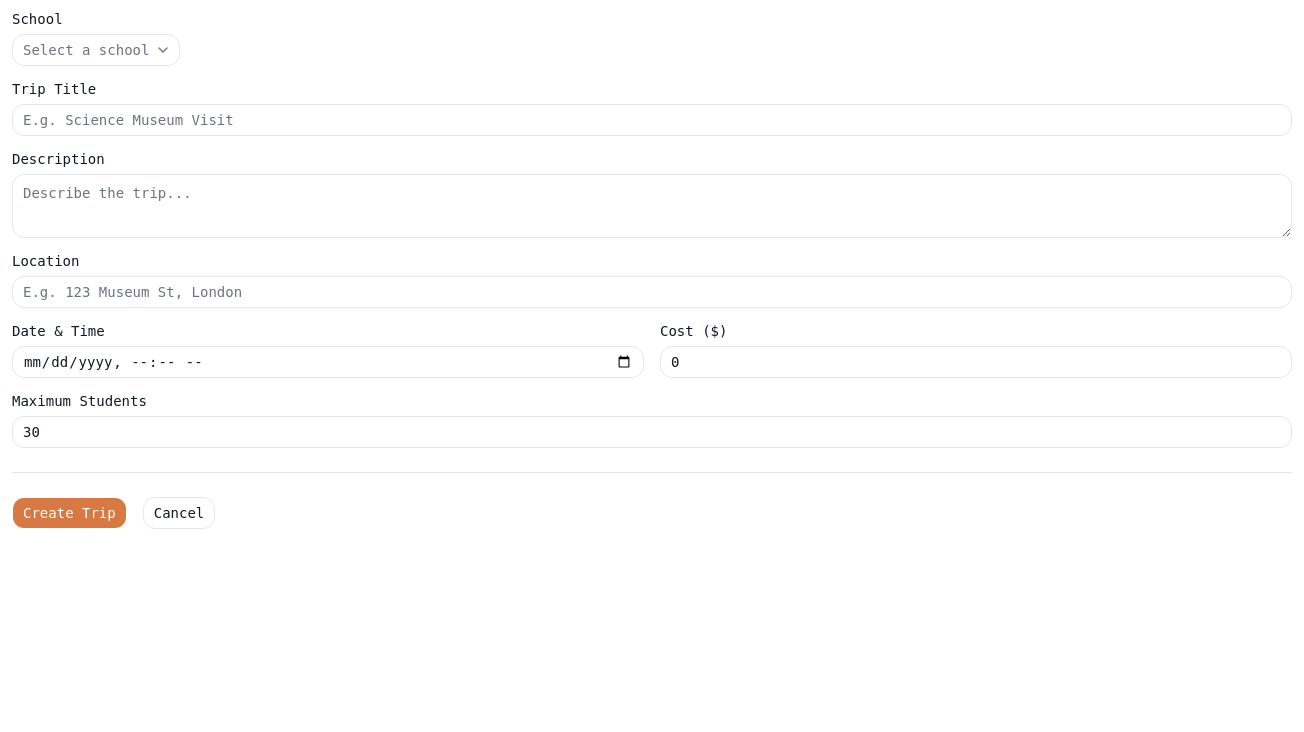
Scenario: TripFormFeature › shows validation errors on empty submission
What coordinates should you click on to do the following:
click the button "Create Trip"
I would click on:
 (69, 513)
Its box is x1=12 y1=497 x2=127 y2=529.
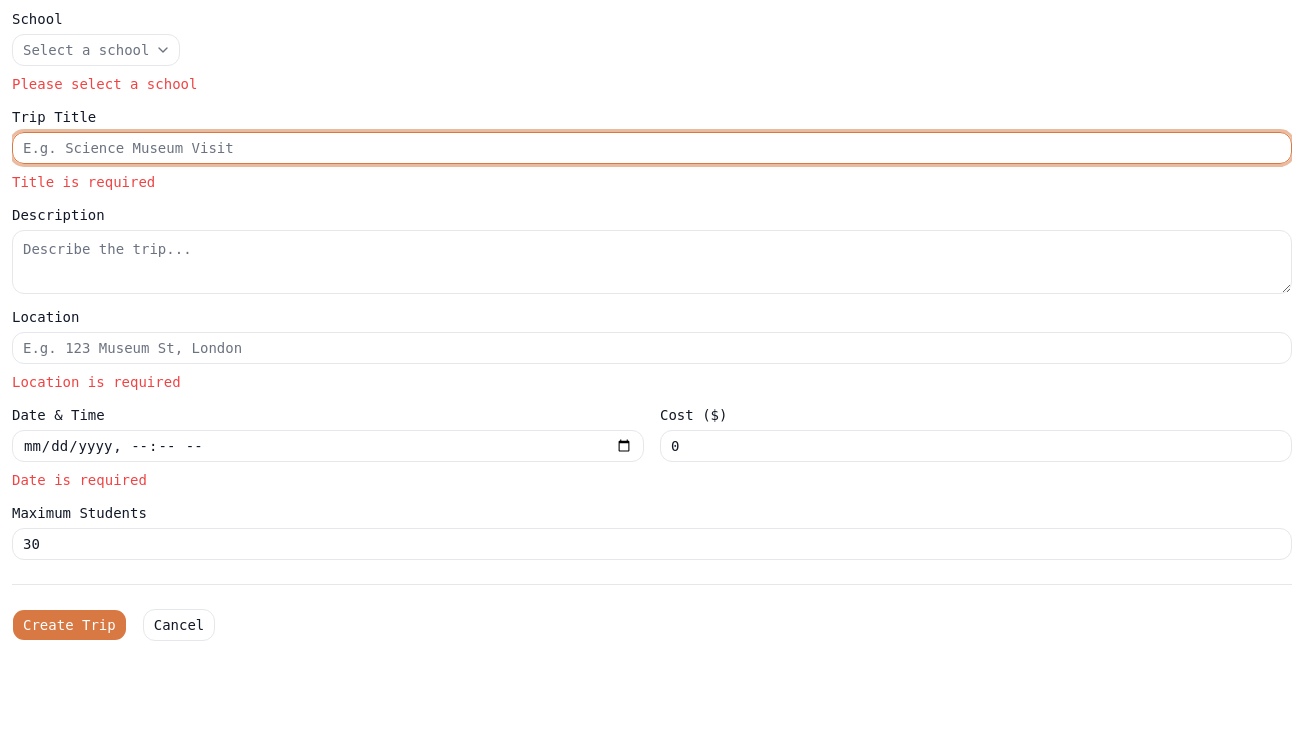
Expected: the text "Please select a school" is shown, x1=12 y1=76 x2=197 y2=92
Expected: the text "Title is required" is shown, x1=12 y1=174 x2=155 y2=190
Expected: the text "Location is required" is shown, x1=12 y1=374 x2=181 y2=390
